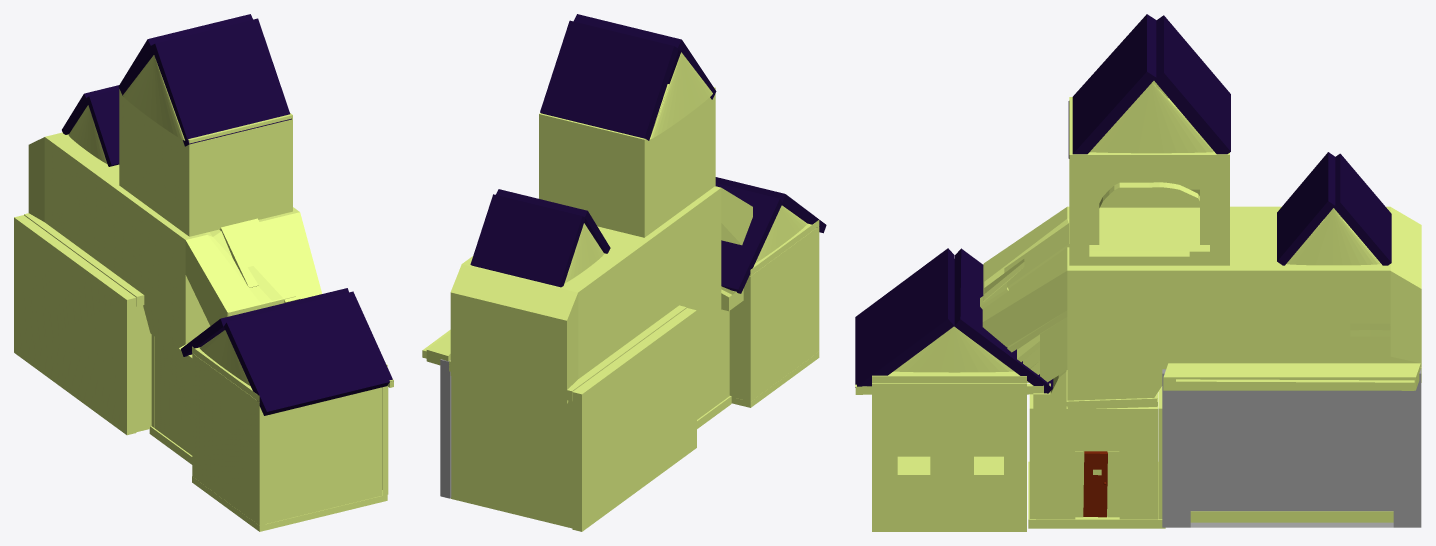
The model's file is Casa projeto2.fbx.
The picture shows the model from 3 angles, left to right: view 1: azimuth 30°, elevation 25°; view 2: azimuth 150°, elevation 25°; view 3: azimuth 270°, elevation 25°; orthographic projection. The views are drawn at different scales.
Parts seen in each view (by area): view 1: Calha meio; view 2: Calha meio; view 3: Calha meio.
Boxes of the visible parts, left/top/right/bottom form: Calha meio: left=14, top=14, right=393, bottom=531; Calha meio: left=422, top=14, right=826, bottom=531; Calha meio: left=855, top=14, right=1421, bottom=531.
Size of the model in its own units: 863 by 2048 by 2308.
